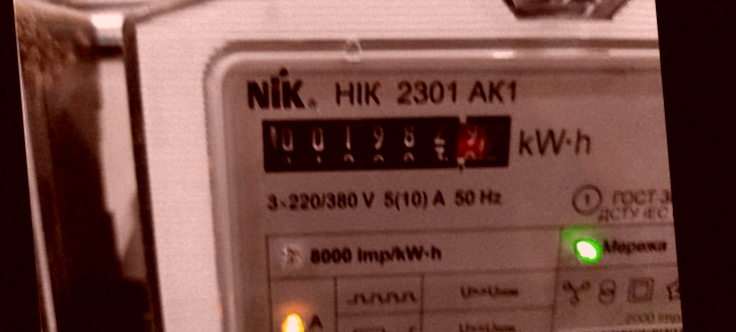0: (309, 123, 328, 154), (279, 123, 297, 153)
1: (341, 121, 355, 151)
2: (431, 116, 451, 146)
8: (401, 120, 419, 149)
9: (462, 119, 484, 149), (370, 121, 387, 152)
screen: (243, 84, 531, 203)
